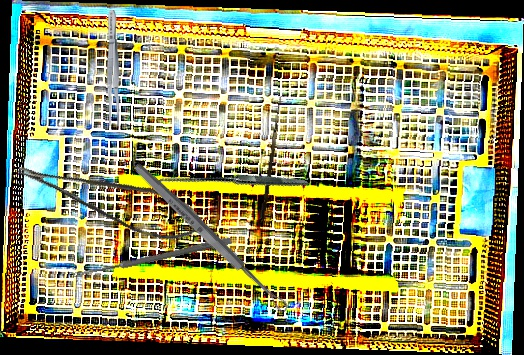Dressing Forceps: (104, 9, 122, 127)
Hook Surgical: (152, 107, 310, 265), (259, 95, 282, 220)
Micro Scissor: (14, 132, 211, 258)
Surgical Spoon: (130, 160, 292, 316), (71, 235, 232, 281)
